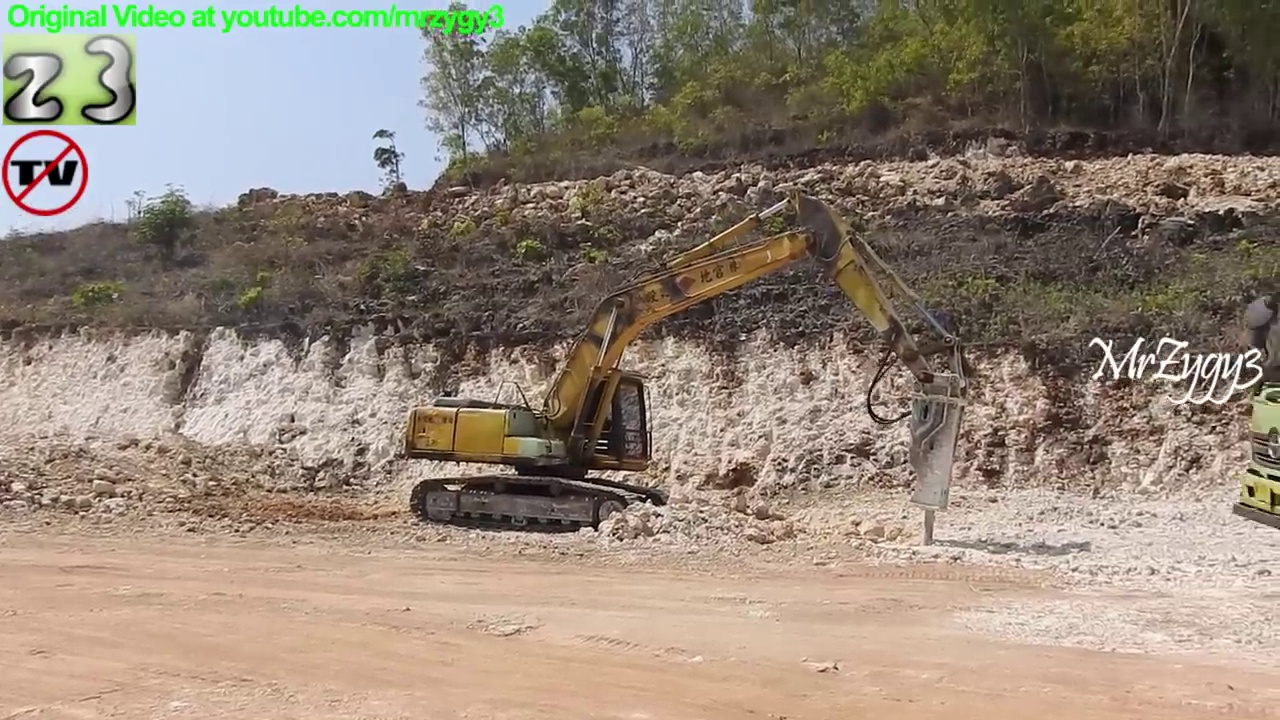excavator breaker: (398, 186, 975, 558)
truck: (1224, 285, 1280, 539)
